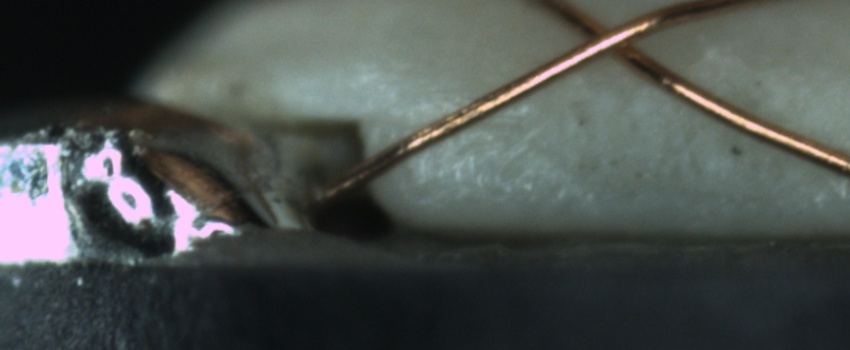CL: (557, 4, 660, 71)
